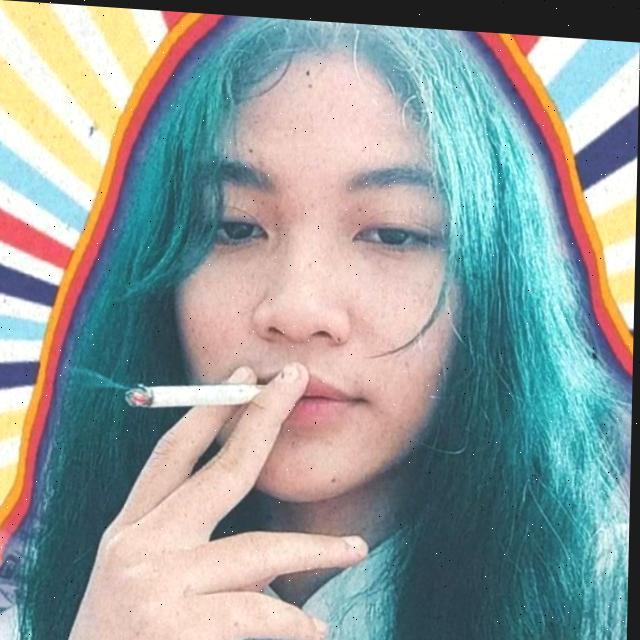cigarette: (125, 375, 270, 412)
